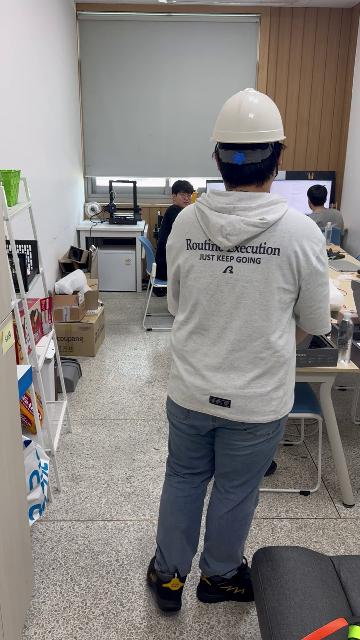helmet_worn: (208, 87, 287, 145)
shoe_worn: (197, 557, 254, 604), (146, 555, 186, 614)
vest_not_worn: (167, 193, 307, 414)
